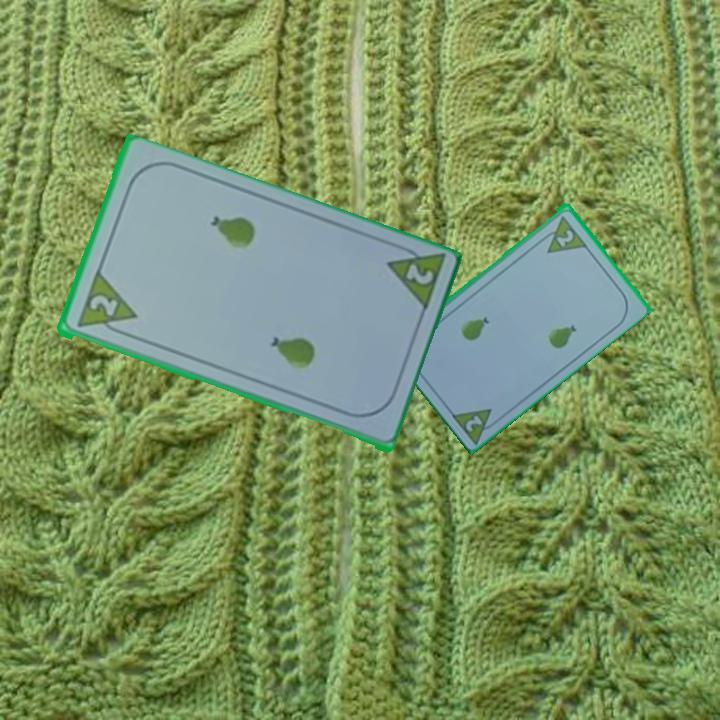2p: (382, 240, 448, 317), (447, 404, 504, 445), (536, 212, 589, 256), (85, 291, 120, 320)
